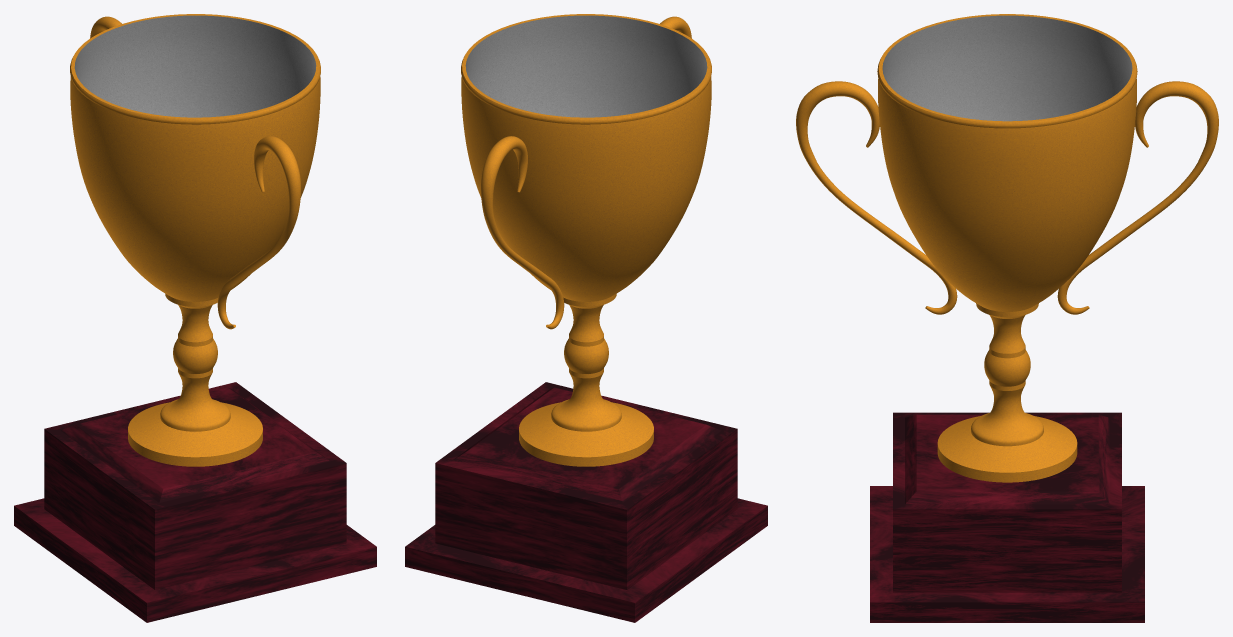
The picture shows the model from 3 angles, left to right: view 1: azimuth 30°, elevation 25°; view 2: azimuth 150°, elevation 25°; view 3: azimuth 270°, elevation 25°; orthographic projection. The views are drawn at different scales.
Visible parts, largest first — view 1: Cup, Base, Handle; view 2: Cup, Base, Handle; view 3: Cup, Base, Handle.
Part boxes in pixels (x1,y1,x2,y2): Cup: (70, 14, 320, 466); Base: (14, 382, 376, 622); Handle: (90, 16, 300, 329); Cup: (461, 14, 711, 466); Base: (405, 382, 767, 622); Handle: (481, 16, 691, 329); Cup: (877, 14, 1137, 482); Base: (870, 412, 1144, 622); Handle: (796, 81, 1218, 314).
Bounding box in the file's own units: 0.151 × 0.3008 × 0.2323.
3 materials, 3 textured.
